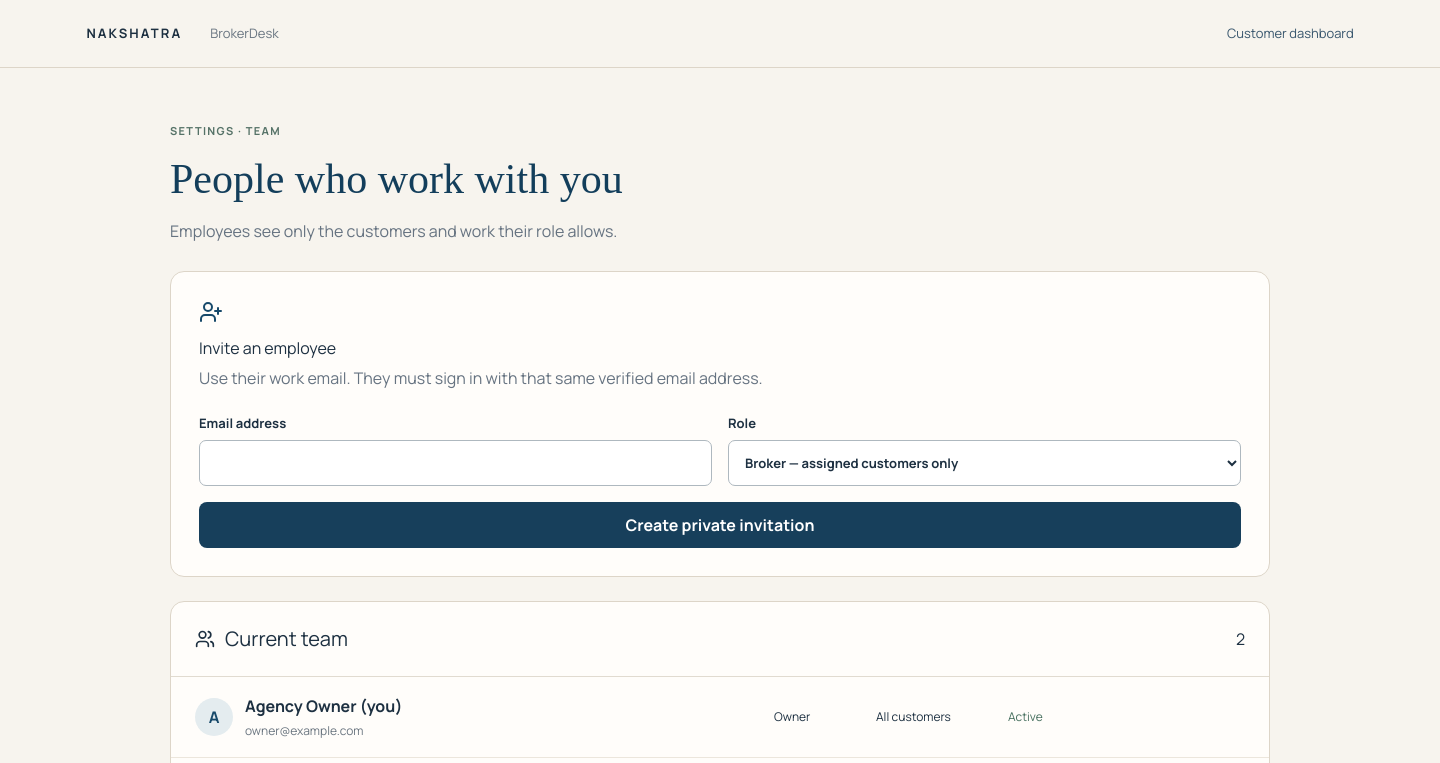
Test case: BrokerDesk team settings › creates a clear one-time invitation after reauthentication
Type "employee@example.com" into the field labelled "Email address" at (456, 463), box [199, 440, 712, 486]
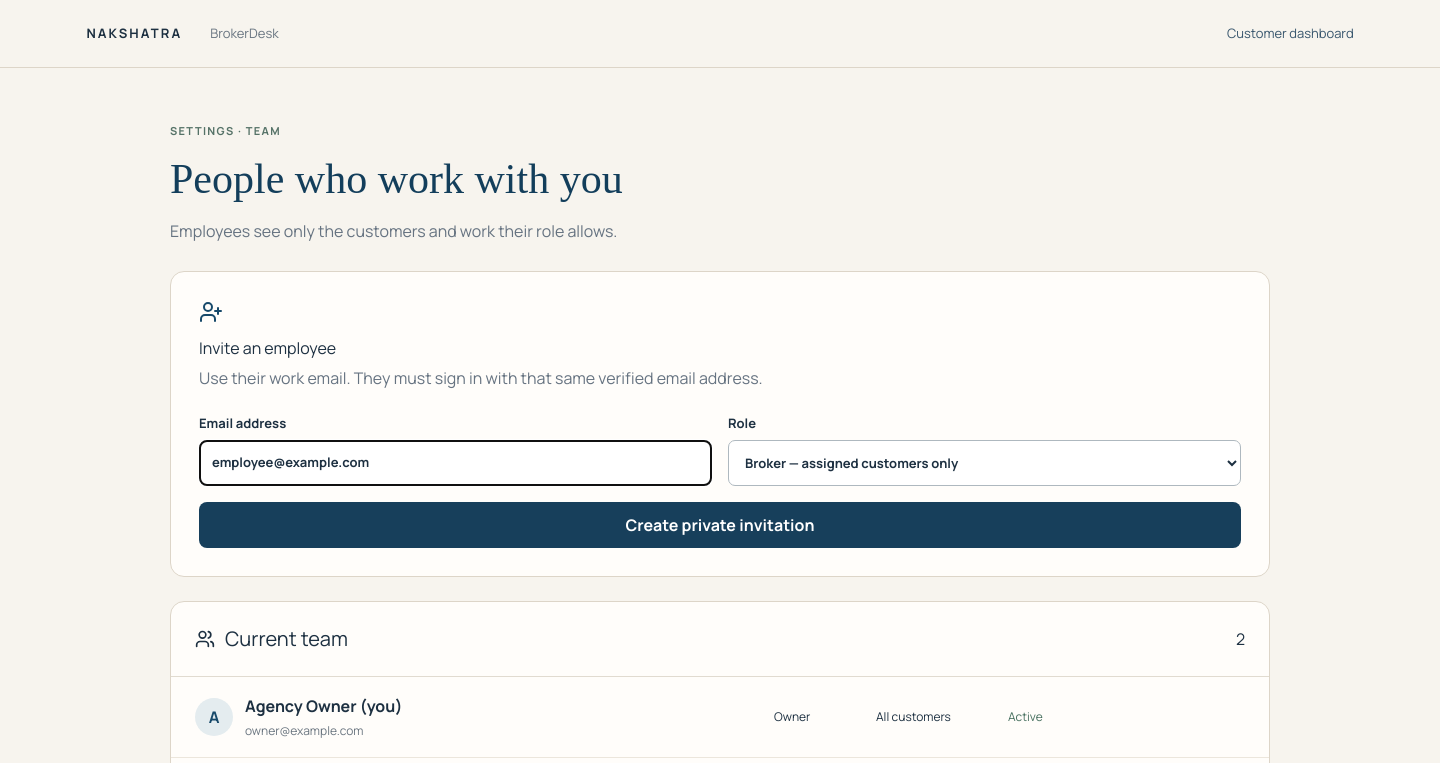
Select "Broker — assigned customers only" in the dropdown labelled "Role" at (984, 463), box [728, 440, 1241, 486]
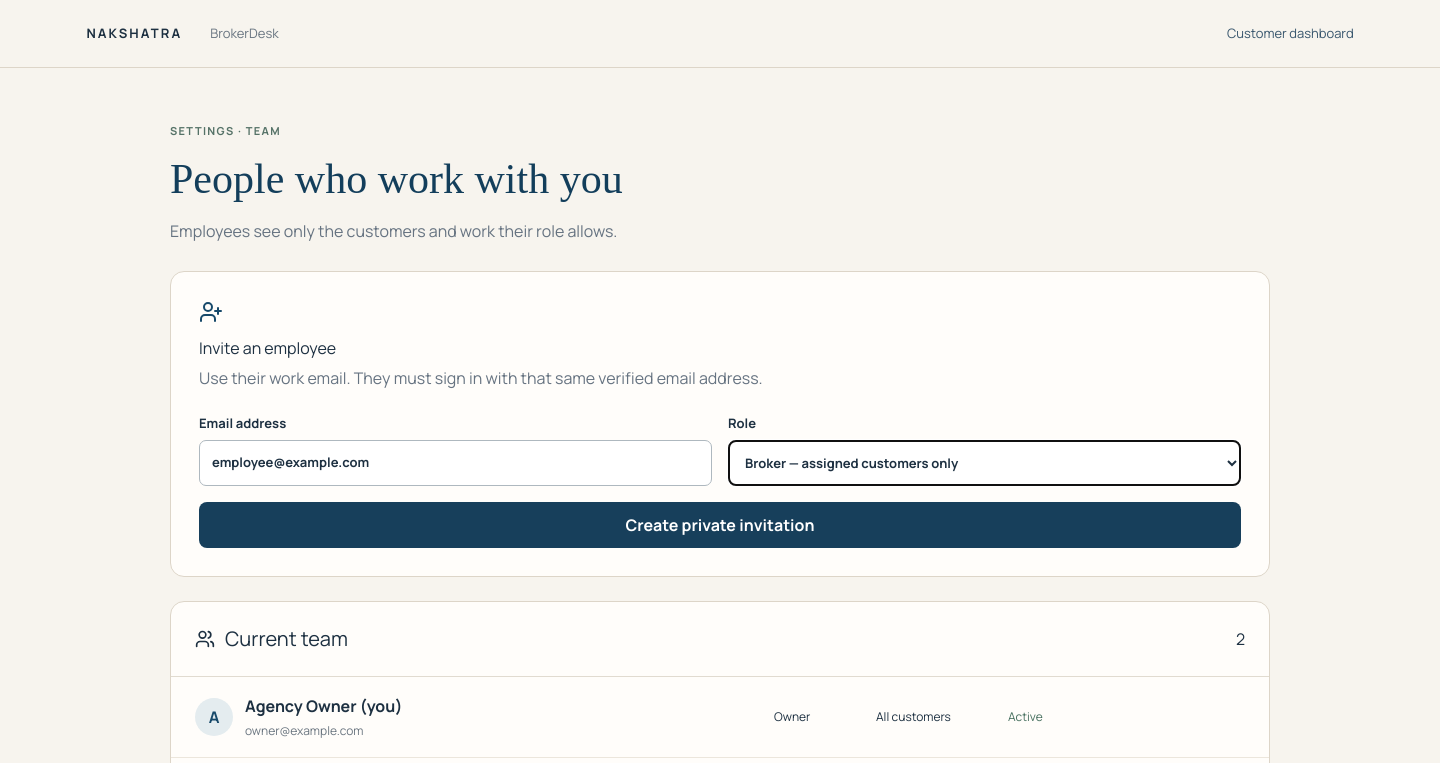
Click the button "Create private invitation" at (720, 525), box [199, 502, 1241, 548]
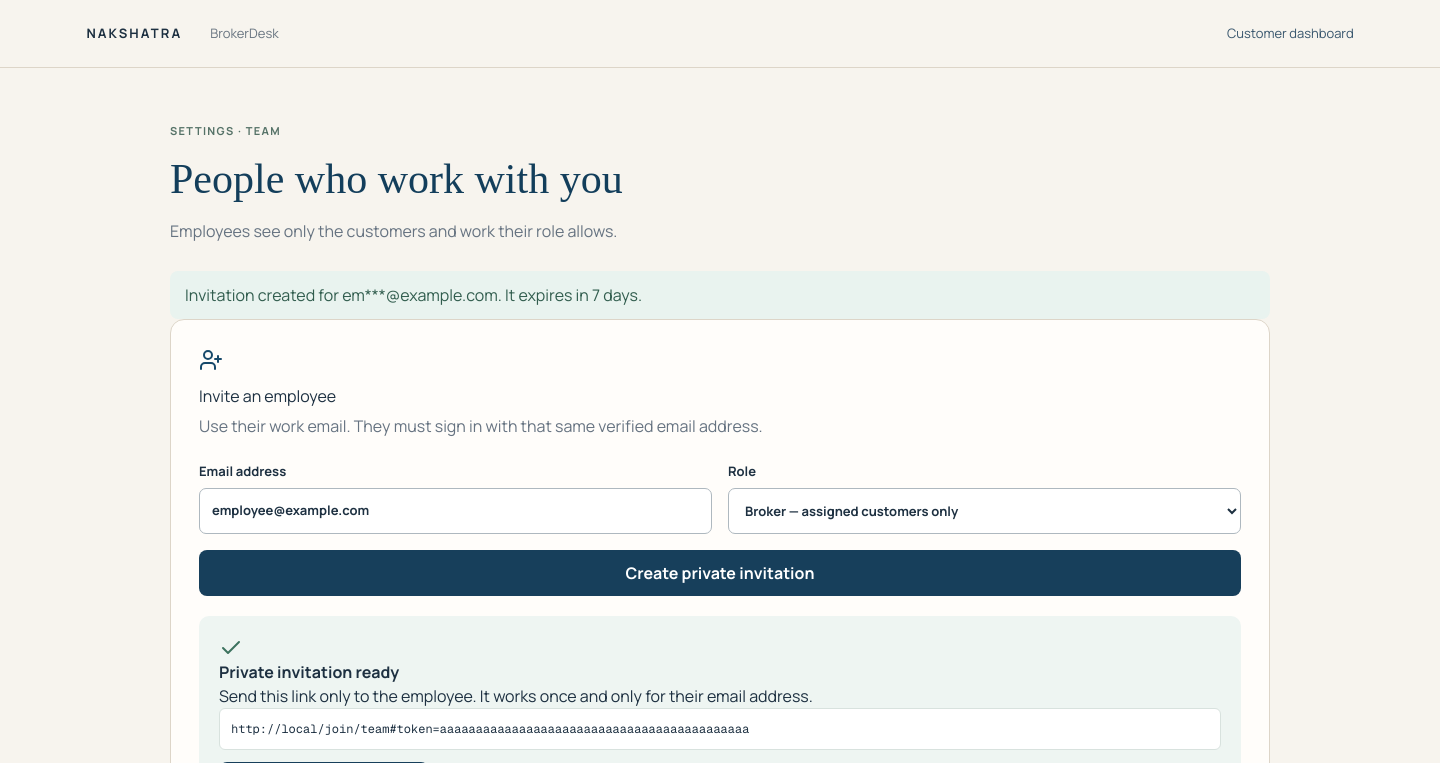
Expected: the text "Private invitation ready" is shown, [219, 661, 399, 683]
Expected: the text "works once and only for their email" is shown, [219, 685, 813, 707]
